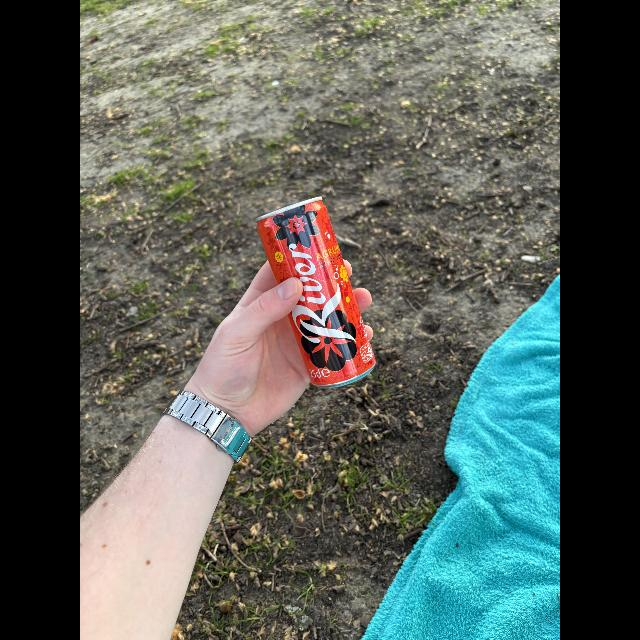Metal: (253, 194, 375, 386)
